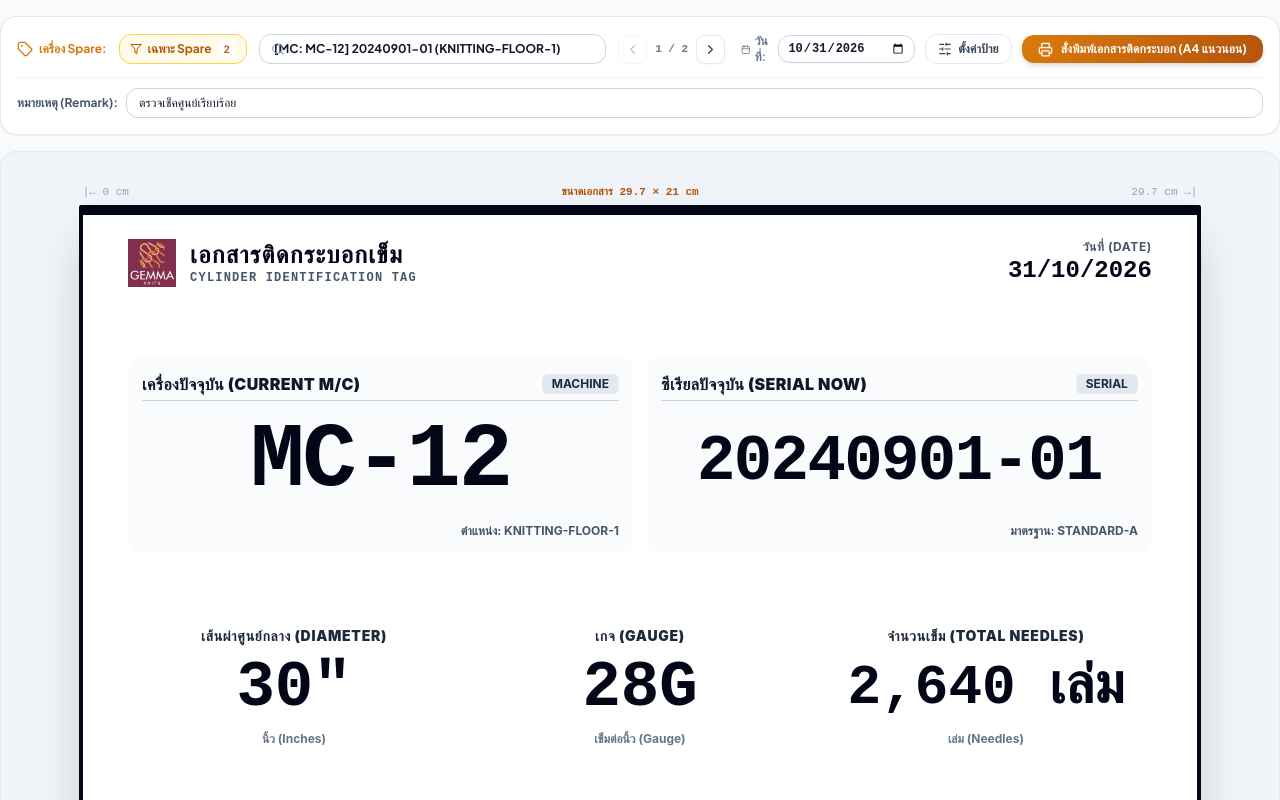
CylinderTagView Component (Customizable Tack Spare Tag) › allows searching and selecting a cylinder from autocomplete dropdown
Replace the text in the field with placeholder "พิมพ์ค้นหาเครื่องหรือรหัสกระบอก (เช่น MC-02, CYL-2026)..." with "MC-15". click: (432, 49)
box: top-left (259, 34), bottom-right (606, 64)
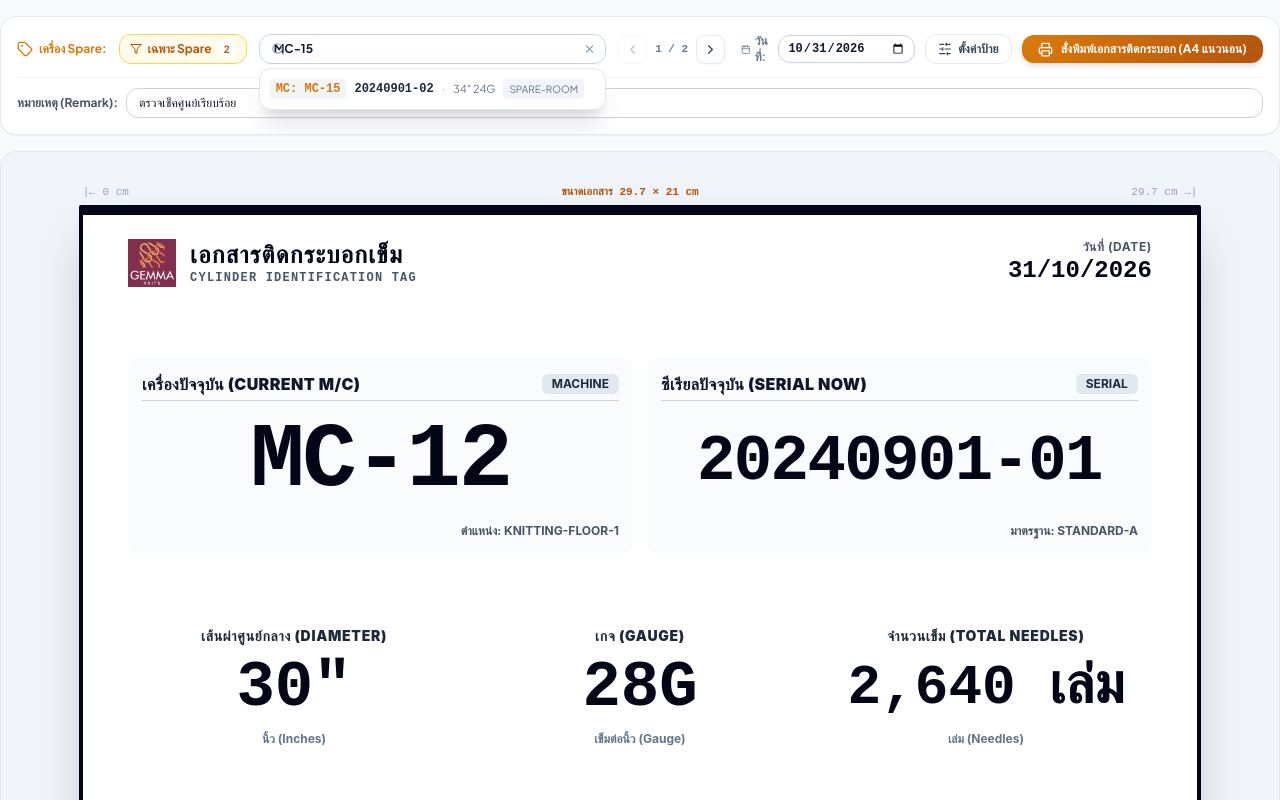
Note: Find the item in the dropdown
Click the text "MC: MC-15". click: (308, 89)
box: top-left (270, 79), bottom-right (346, 99)
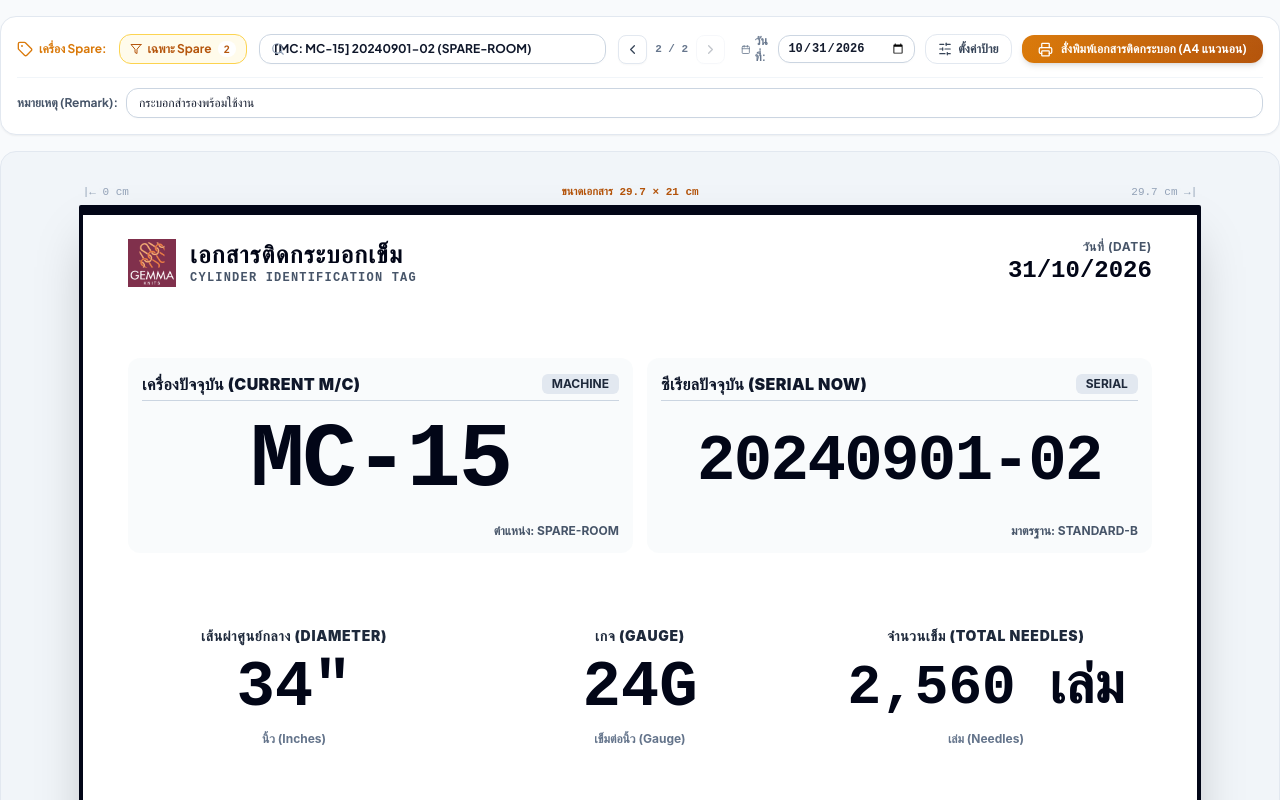
Expected: the text "MC-15" is shown, top-left (250, 410), bottom-right (511, 512)
Expected: the text "20240901-02" is shown, top-left (697, 426), bottom-right (1102, 498)
